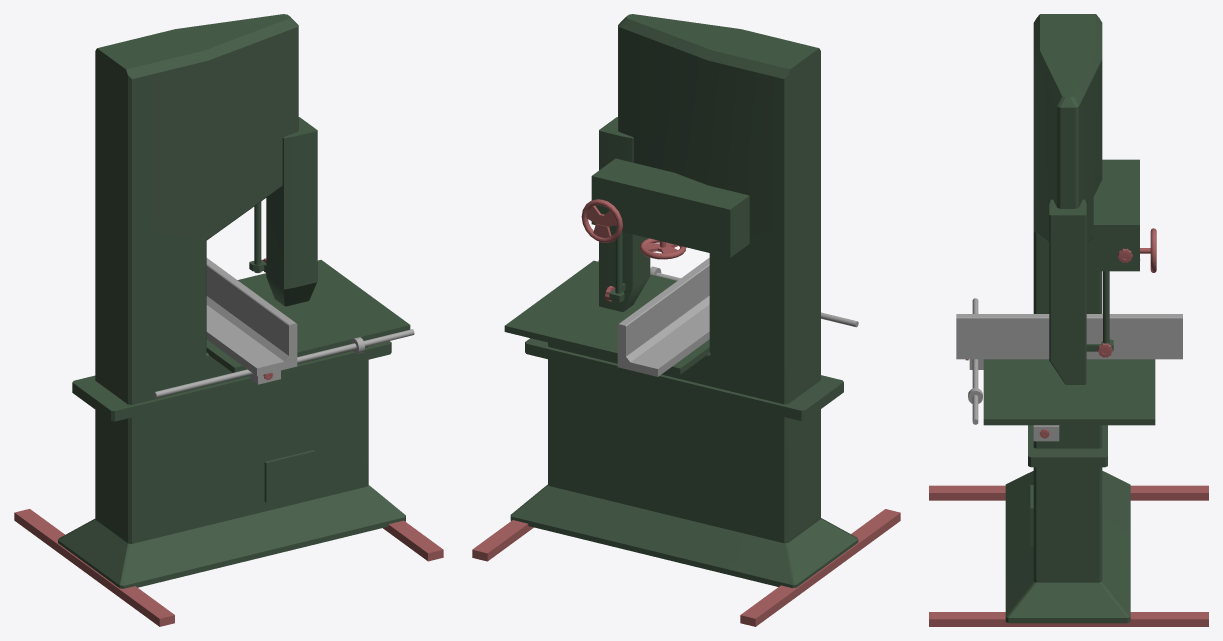
Rendered from Machinev2.fbx.
The picture shows the model from 3 angles, left to right: view 1: azimuth 30°, elevation 25°; view 2: azimuth 150°, elevation 25°; view 3: azimuth 270°, elevation 25°; orthographic projection. The views are drawn at different scales.
Visible parts, largest first — view 1: polySurface8, polySurface11, polySurface10, polySurface13, polySurface15, polySurface16, polySurface14; view 2: polySurface8, polySurface12, polySurface10, polySurface13, polySurface11, polySurface15, pCylinder9, polySurface14; view 3: polySurface8, polySurface10, polySurface13, polySurface11, polySurface12, polySurface14, polySurface15, pCylinder9, polySurface16, polySurface9, polySurface20.
Boxes of the visible parts, <box> form: polySurface8: <box>58,14,405,588</box>; polySurface11: <box>266,117,317,306</box>; polySurface10: <box>206,260,410,372</box>; polySurface13: <box>206,258,297,376</box>; polySurface15: <box>14,509,174,626</box>; polySurface16: <box>153,329,414,397</box>; polySurface14: <box>383,520,443,561</box>; polySurface8: <box>510,14,858,588</box>; polySurface12: <box>591,158,749,257</box>; polySurface10: <box>504,260,709,374</box>; polySurface13: <box>617,257,709,376</box>; polySurface11: <box>599,117,650,311</box>; polySurface15: <box>740,509,900,626</box>; pCylinder9: <box>581,199,686,301</box>; polySurface14: <box>472,520,533,561</box>; polySurface8: <box>1005,14,1130,623</box>; polySurface10: <box>983,359,1155,425</box>; polySurface13: <box>956,314,1182,359</box>; polySurface11: <box>1049,199,1086,384</box>; polySurface12: <box>1093,159,1139,271</box>; polySurface14: <box>929,612,1208,626</box>; polySurface15: <box>929,485,1208,500</box>; pCylinder9: <box>1097,228,1156,357</box>; polySurface16: <box>972,298,978,424</box>; polySurface9: <box>1103,271,1109,343</box>; polySurface20: <box>1033,425,1059,441</box>.
Size of the model in its own units: 207 by 351 by 181.
